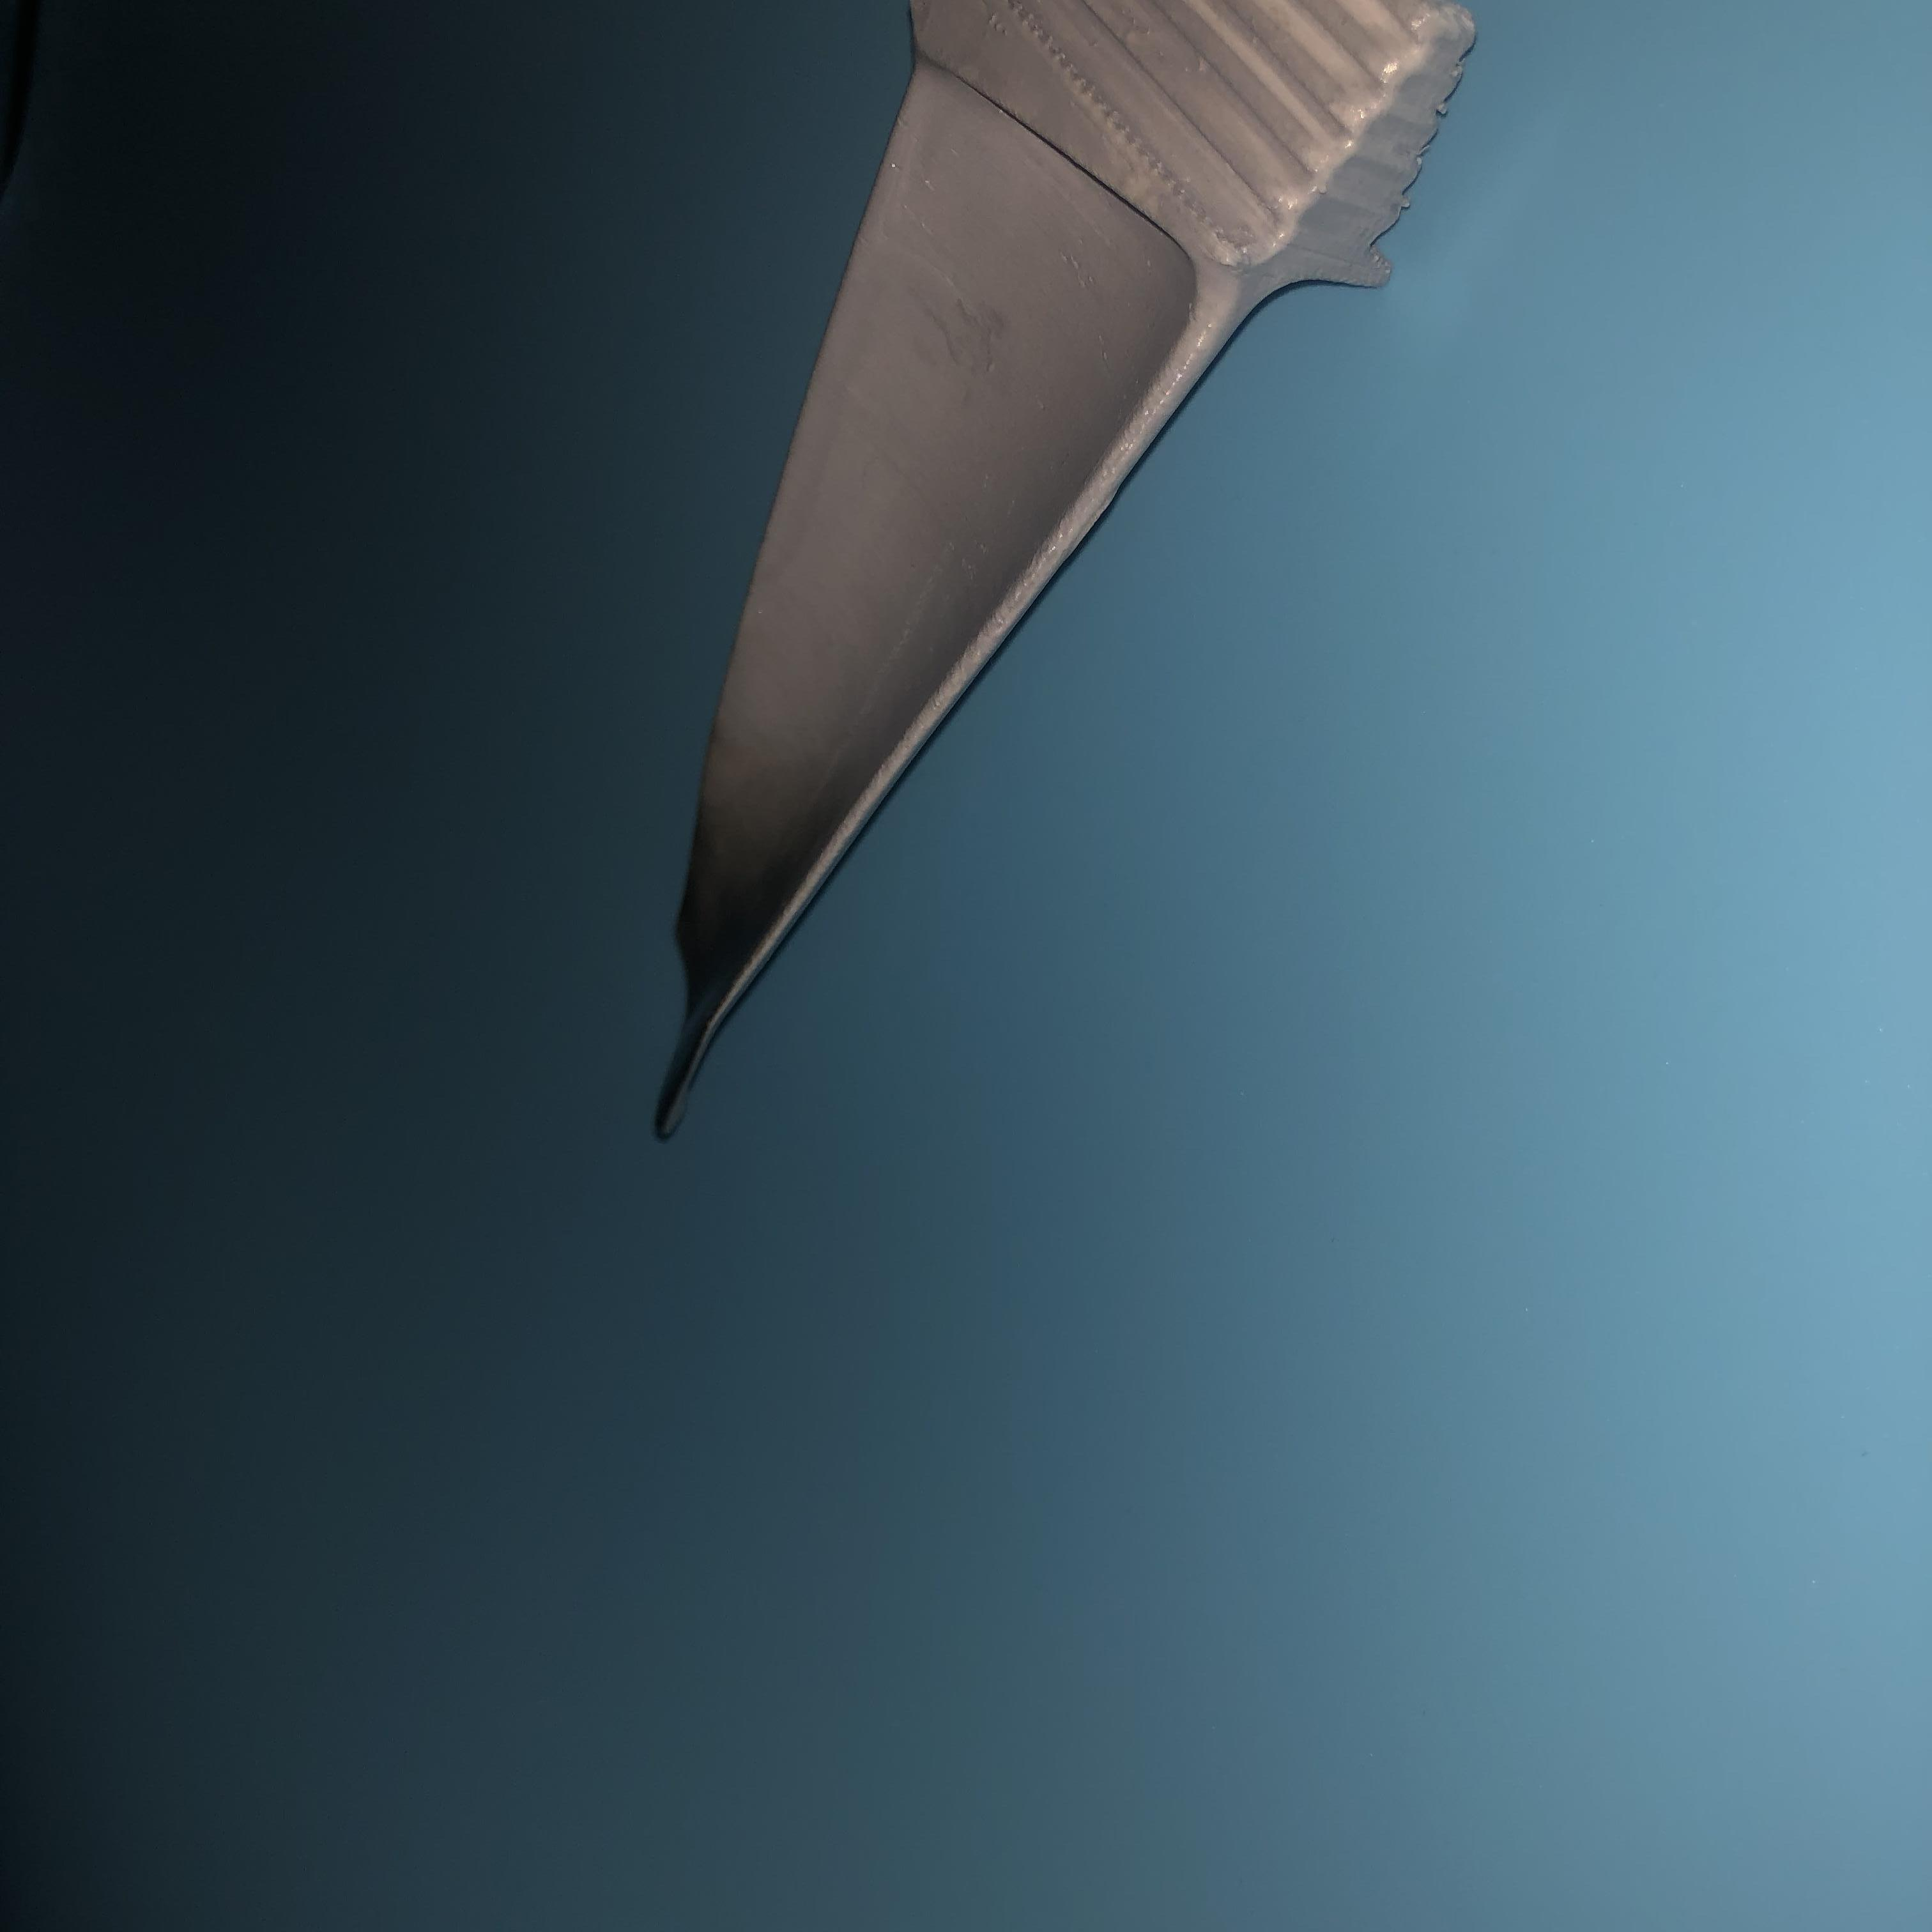ablation: (676, 855, 757, 1077)
